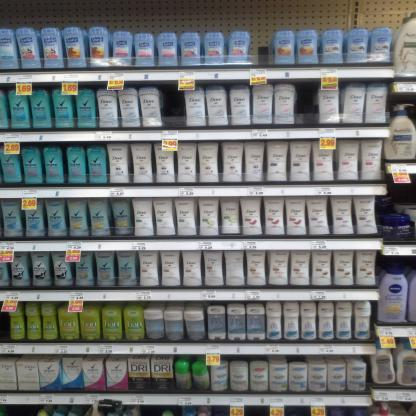Void: (160, 85, 186, 129), (300, 82, 318, 124), (253, 30, 273, 67)
